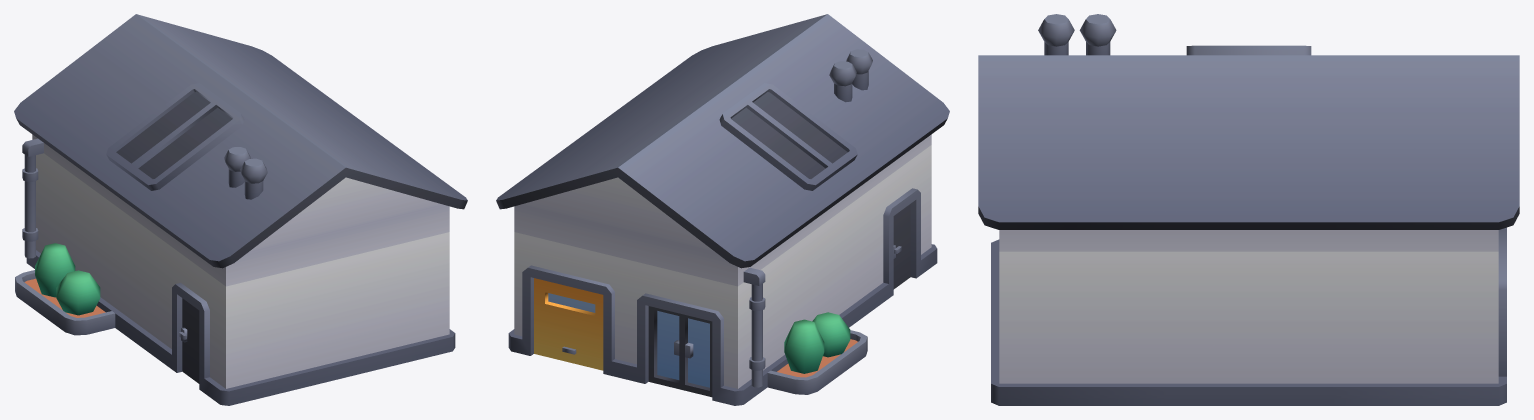
The model's file is kenney-city-industrial-building-i.glb.
3 views of the same model, side by side, from view 1: azimuth 30°, elevation 25°; view 2: azimuth 150°, elevation 25°; view 3: azimuth 270°, elevation 25° (orthographic). The views are drawn at different scales.
Visible parts, largest first — view 1: building-i; view 2: building-i; view 3: building-i.
Boxes of the visible parts, x1,y1,x2,y2 form: building-i: [14, 14, 467, 405]; building-i: [496, 14, 949, 405]; building-i: [978, 14, 1519, 405].
Size of the model in its own units: 1.03 by 0.7336 by 1.3.
1 material, 1 textured.
